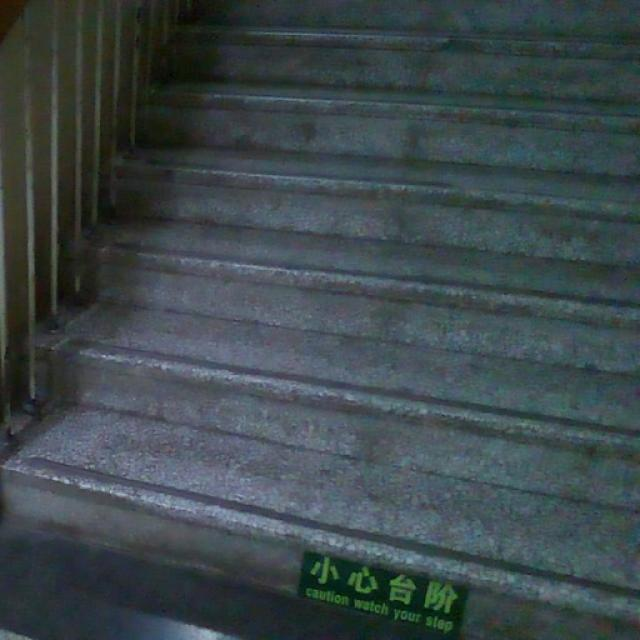Stairs: (0, 0, 639, 635)
